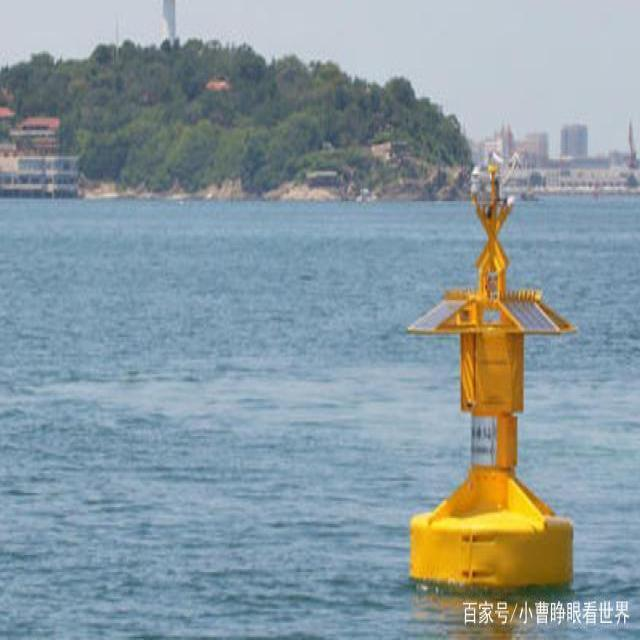buoy: (401, 159, 579, 594)
